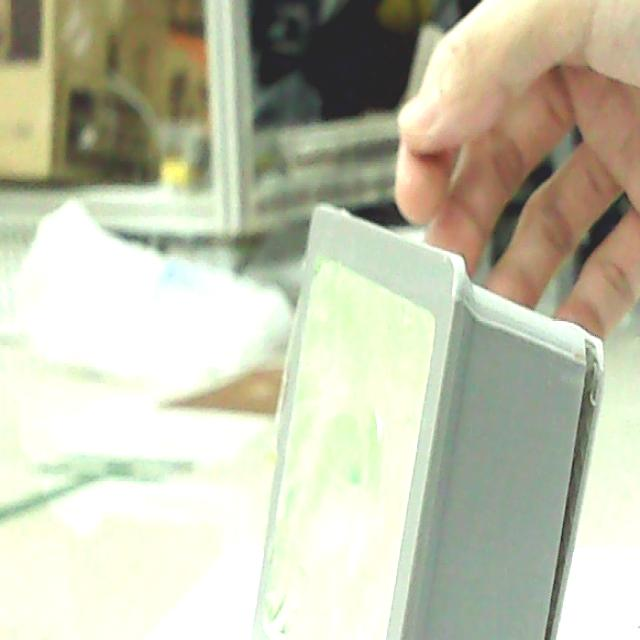block: (250, 201, 602, 640)
